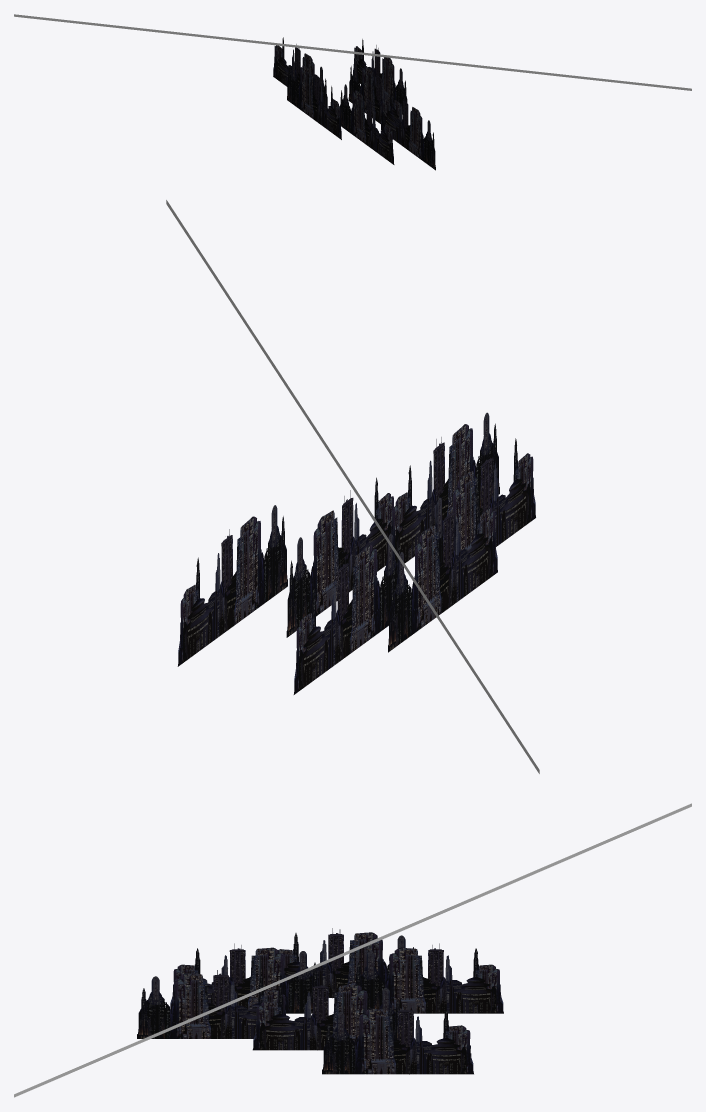
File: cor1_prop_buldings_sky.fbx
3 renders of one model, top to bottom at view 1: azimuth 30°, elevation 25°; view 2: azimuth 150°, elevation 25°; view 3: azimuth 270°, elevation 25°, orthographic. The views are drawn at different scales.
Parts seen in each view (by area): view 1: buildings, polymsh_extracted349; view 2: buildings, polymsh_extracted349; view 3: buildings, polymsh_extracted349.
Boxes of the visible parts, <box> form: buildings: <box>273,37,435,170</box>; polymsh_extracted349: <box>14,14,691,90</box>; buildings: <box>177,412,535,694</box>; polymsh_extracted349: <box>166,200,539,773</box>; buildings: <box>137,928,503,1074</box>; polymsh_extracted349: <box>14,803,691,1097</box>.
Size of the model in its own units: 151374 by 23342 by 148986.
